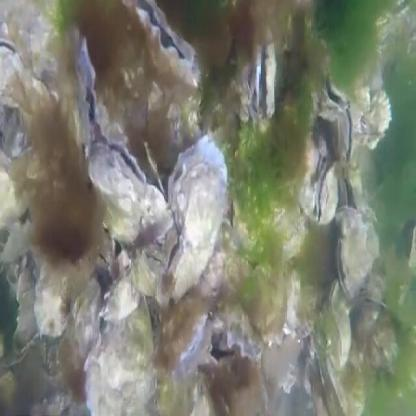Oyster- Indeterminate: (0, 40, 53, 158), (336, 221, 379, 299), (74, 36, 103, 147), (320, 79, 353, 165), (329, 278, 352, 364), (101, 268, 139, 320), (317, 162, 339, 225)
Oyster-Closed: (84, 296, 156, 416), (34, 261, 87, 338), (326, 339, 364, 416), (366, 89, 391, 149)
Oyster-Open: (159, 137, 228, 302), (89, 142, 173, 247), (121, 0, 202, 88), (254, 33, 276, 116), (227, 309, 262, 359)
